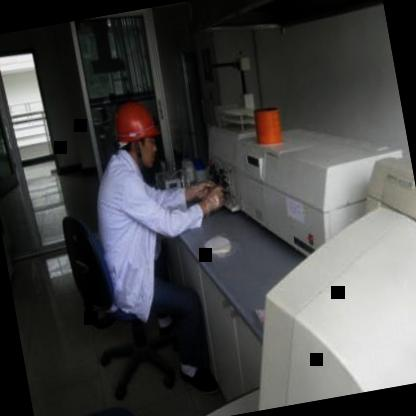helmet: (106, 89, 174, 180)
